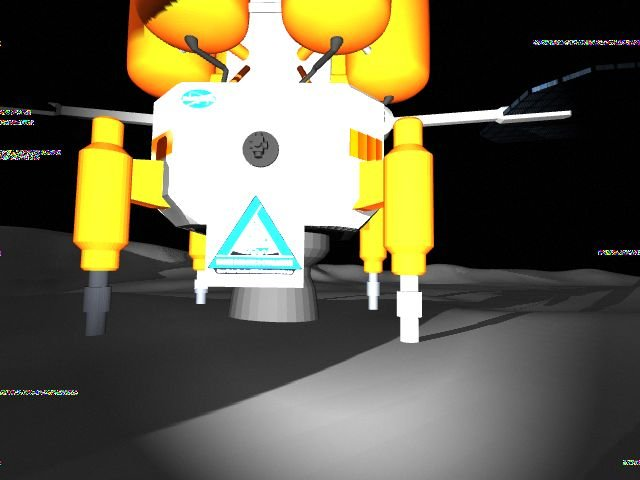basemarker: (206, 193, 305, 276)
